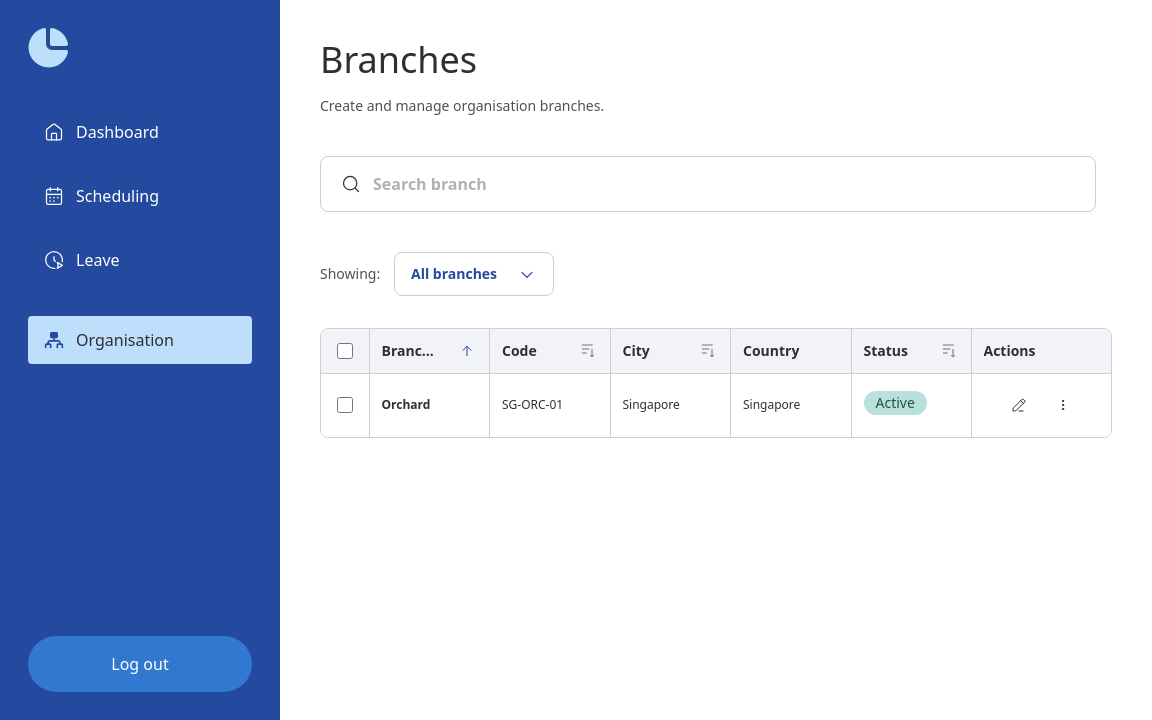
Test: Branches › shows City after Code, sorts it on the server and never searches by city
Check: the text "Singapore" is shown 2 times, box [610, 373, 730, 437]; [730, 373, 851, 437]
Click the button named "Sort by City" at (708, 351), box [690, 333, 726, 369]
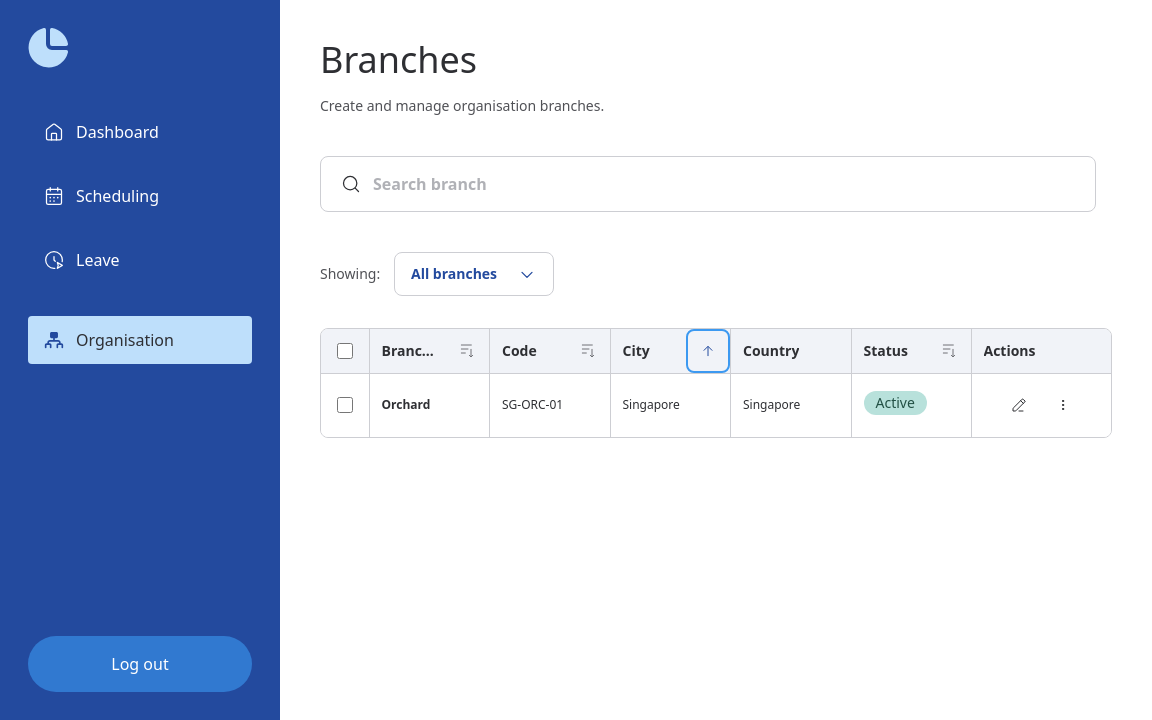
Click the button named "Sort by City" at (708, 351), box [690, 333, 726, 369]
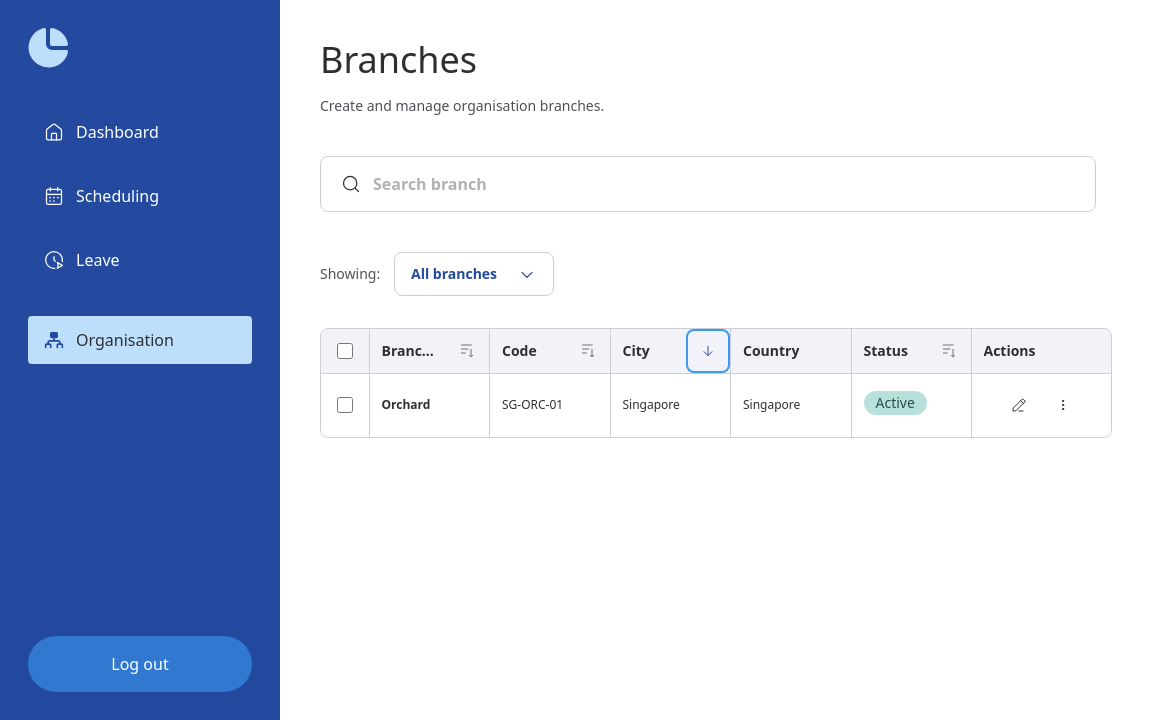
Type "singapore" into the search field labelled "Search branch" at (724, 184), box [373, 172, 1075, 196]
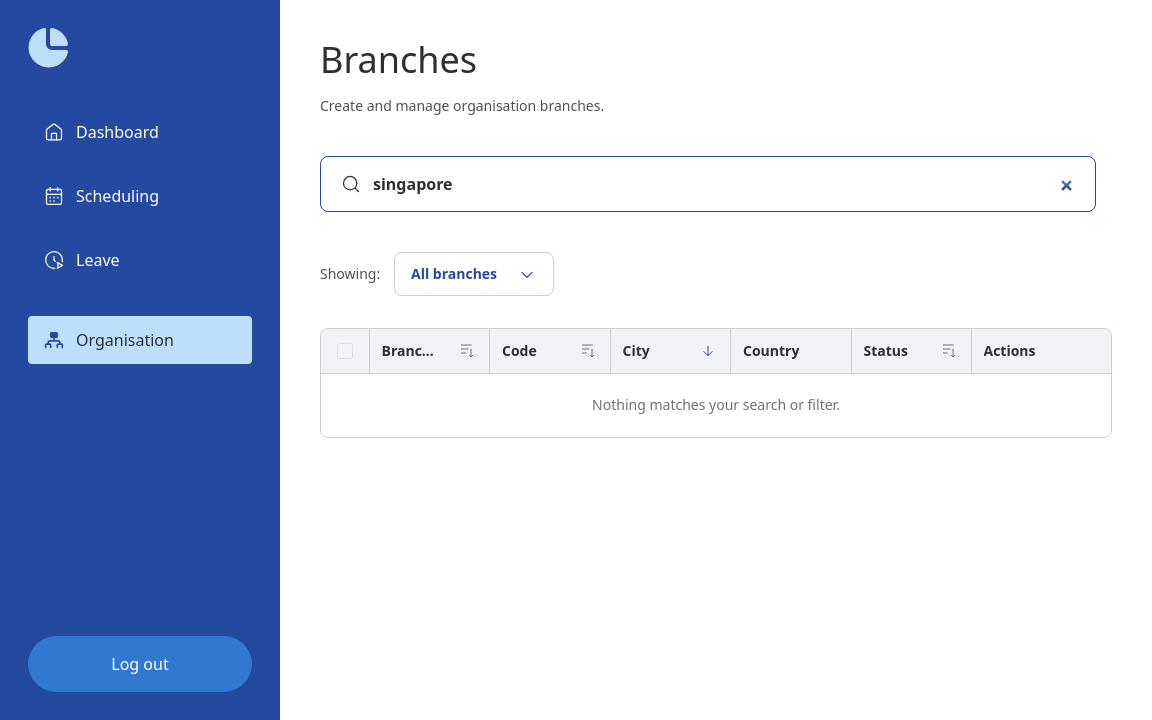
Check: the text "Nothing matches your search or filter." is shown, box [321, 373, 1111, 437]
Check: the text "Orchard" is gone
